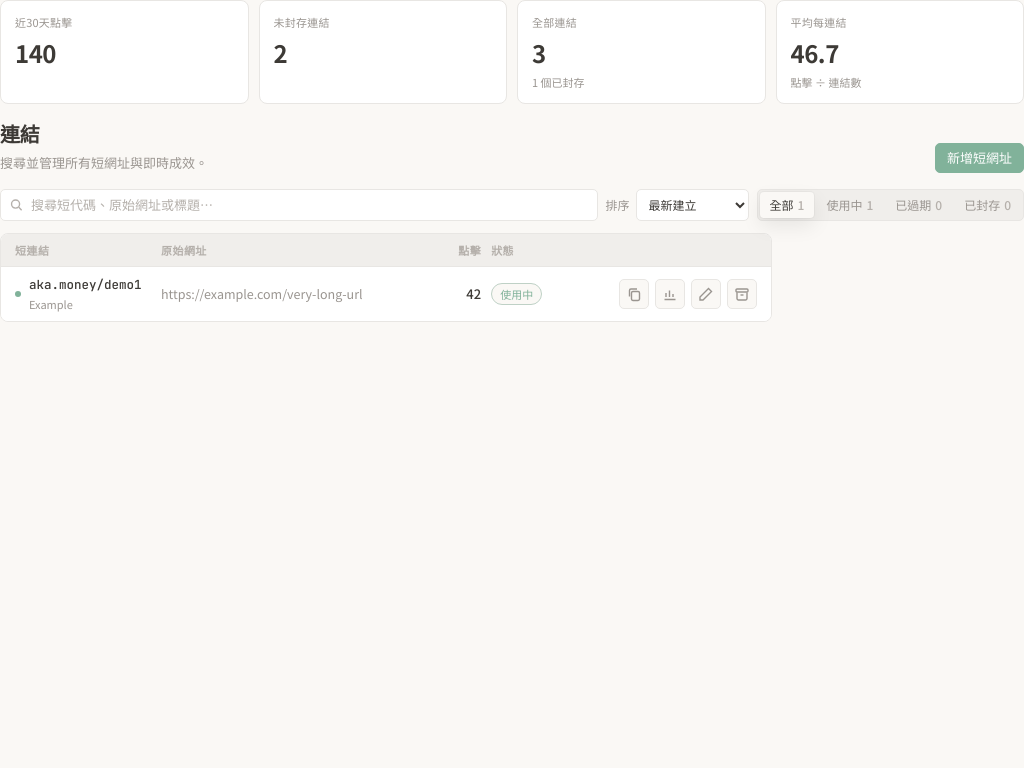
Scenario: DashboardView › edits a URL via the modal and shows a success toast
What coordinates should you click on to do the following:
click the button with test id "row-edit"
I would click on:
 (706, 294)
Its box is [691,279,721,309].
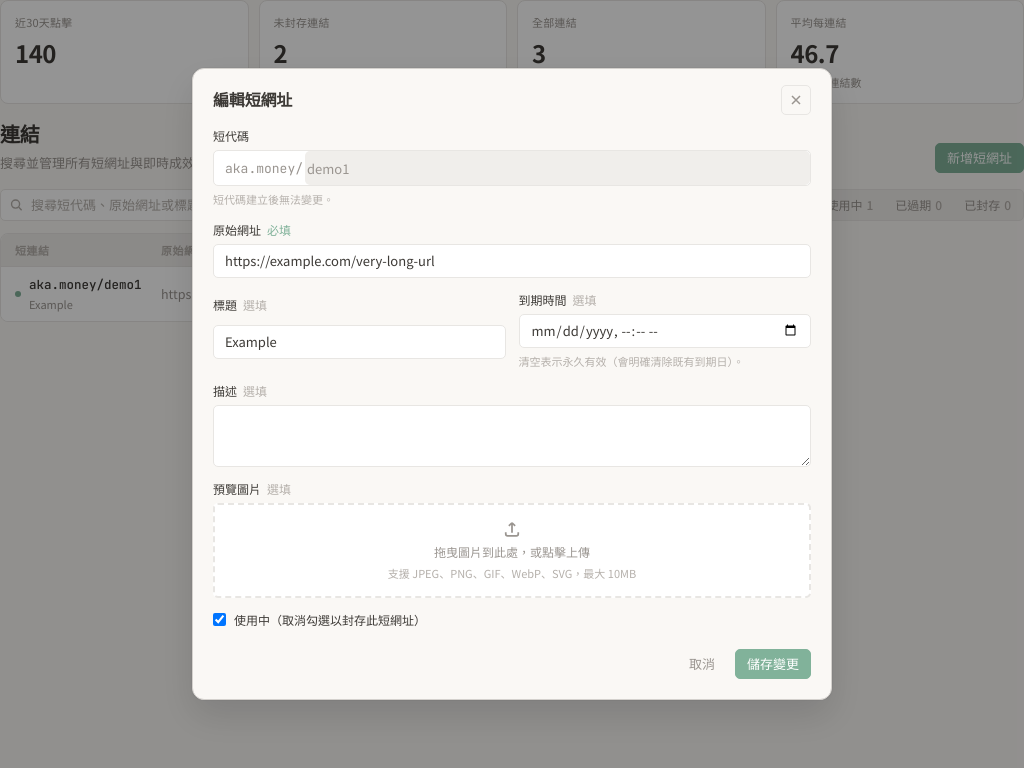
What coordinates should you click on to do the following:
click the button with test id "edit-submit"
I would click on:
 (773, 664)
Its box is [735,649,811,679].
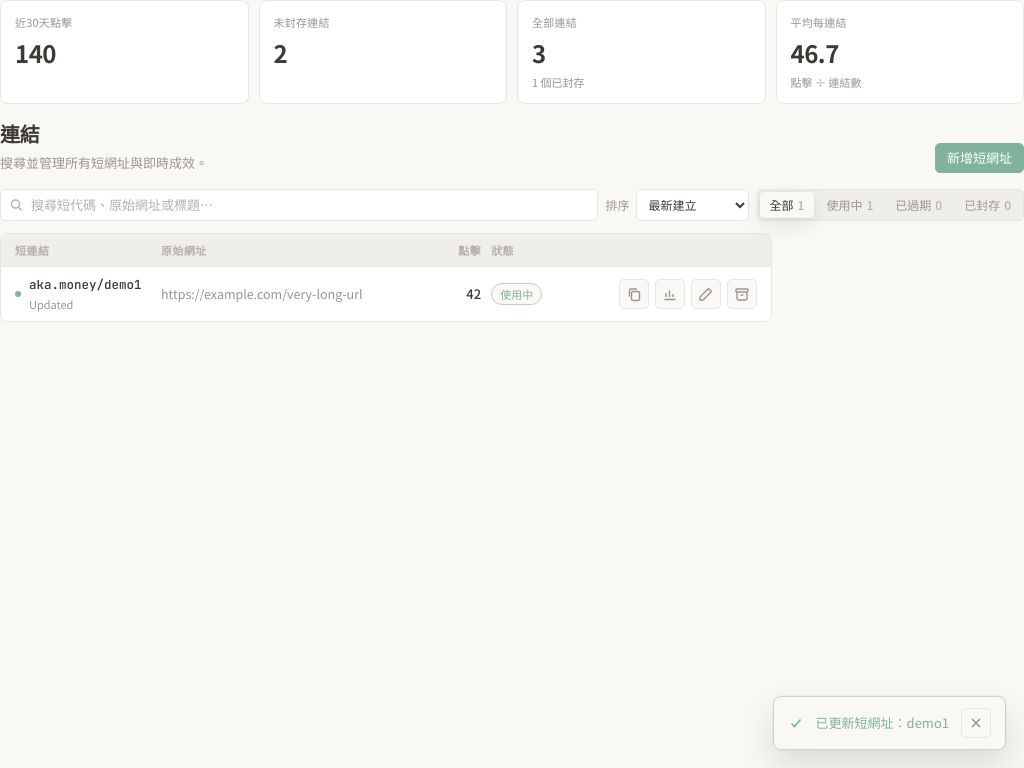
Expected: the text "已更新短網址" is shown, [816,713,949,732]
